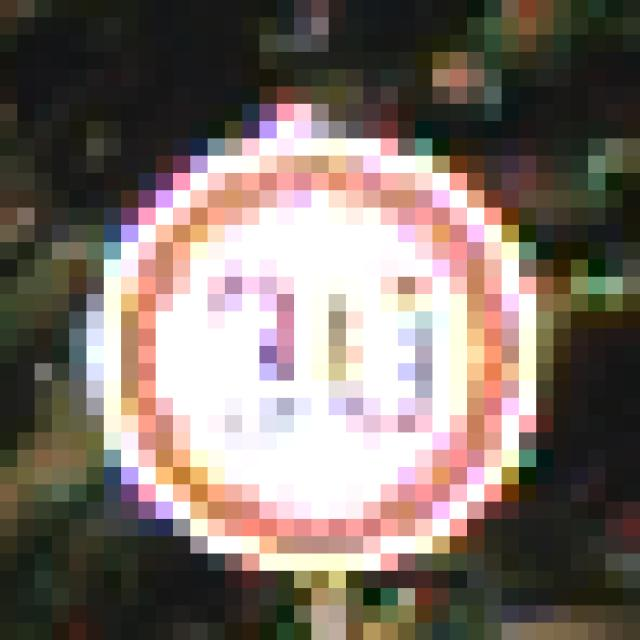Speed Limit -30-: (78, 95, 545, 545)
